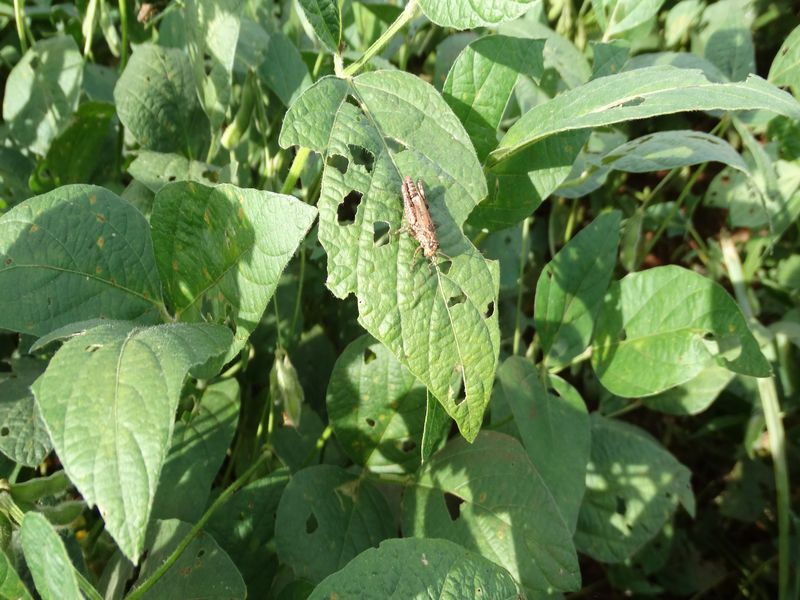Rhammatocerus_schistocercoides: (379, 167, 464, 279)
